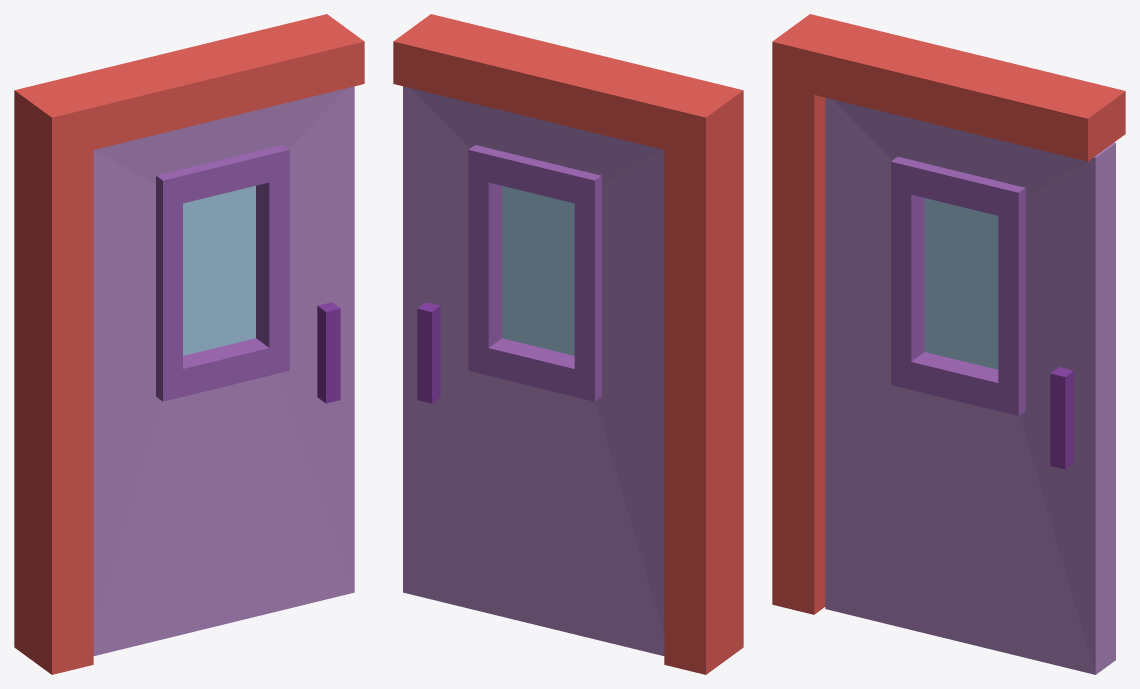
The model's file is Door 2.fbx.
3 renders of one model, left to right at view 1: azimuth 30°, elevation 25°; view 2: azimuth 150°, elevation 25°; view 3: azimuth 330°, elevation 25°, orthographic.
Visible parts, largest first — view 1: Canh_cua, Khung1; view 2: Canh_cua, Khung1; view 3: Canh_cua, Khung1.
Part boxes in pixels (x1,y1,x2,y2): Canh_cua: [93, 86, 354, 655]; Khung1: [14, 14, 364, 674]; Canh_cua: [403, 86, 664, 655]; Khung1: [393, 14, 743, 674]; Canh_cua: [825, 97, 1115, 674]; Khung1: [772, 14, 1125, 614].
Bounding box in the file's own units: 205 × 350 × 42.7.
